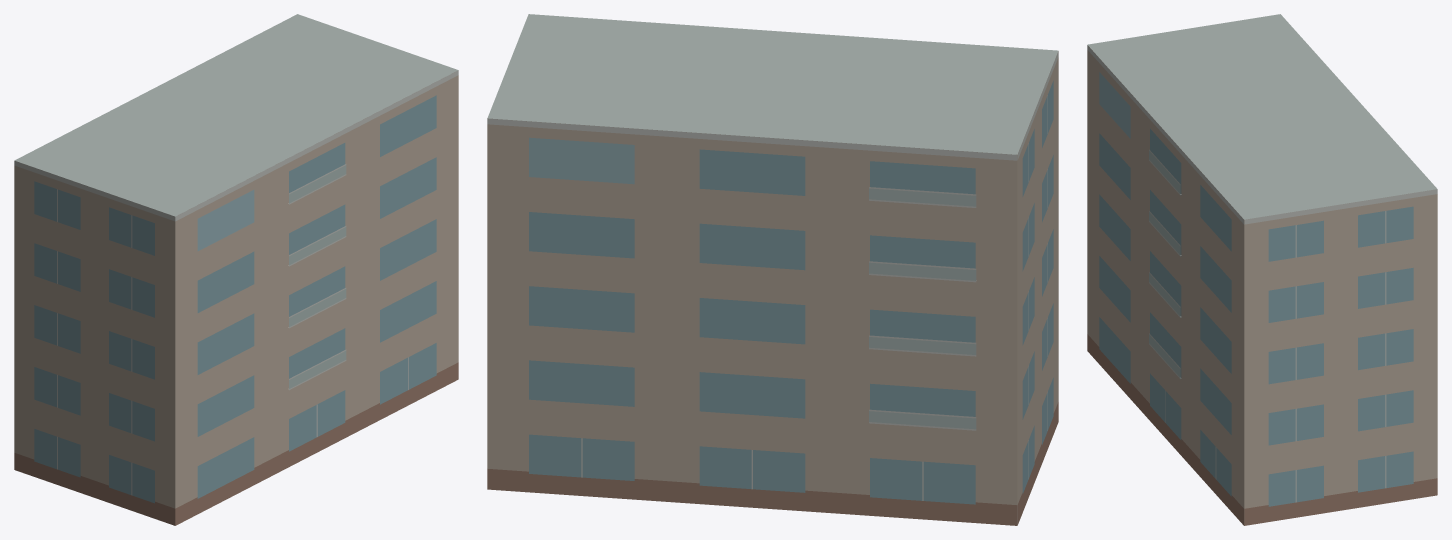
Rendered from survey-upis-32935557.glb.
The picture shows the model from 3 angles, left to right: view 1: azimuth 30°, elevation 25°; view 2: azimuth 150°, elevation 25°; view 3: azimuth 270°, elevation 25°; orthographic projection. The views are drawn at different scales.
Visible parts, largest first — view 1: survey-upis-32935557.tmp; view 2: survey-upis-32935557.tmp; view 3: survey-upis-32935557.tmp.
Boxes of the visible parts, bbox=[...] form: survey-upis-32935557.tmp: bbox=[14, 14, 458, 525]; survey-upis-32935557.tmp: bbox=[487, 14, 1058, 525]; survey-upis-32935557.tmp: bbox=[1087, 14, 1437, 525].
Size of the model in its own units: 21.98 by 15.25 by 15.83.
